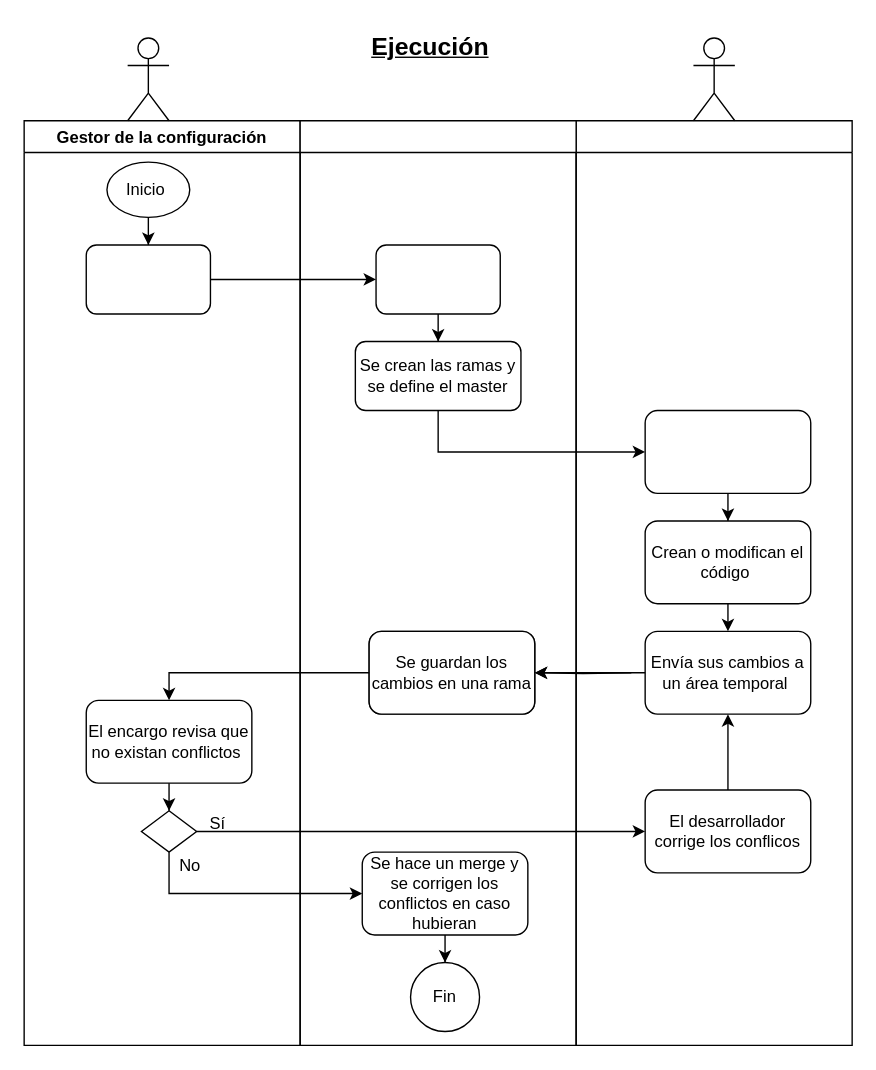
Image size: 876x1070. Some labels were removed from this diagram. The shapes that lost their labels are listed below. From the top down, each one's box as (x1, y1, x2, y2) in pixels, then its label:
(85, 244, 210, 314): Inicia un proyecto
(375, 244, 500, 314): Se crea un repositorio
(644, 409, 811, 493): Los desarrolladores crean una clon de repositorio
(299, 119, 576, 1045): Git
(575, 119, 852, 1045): Equipo de desarrollo
